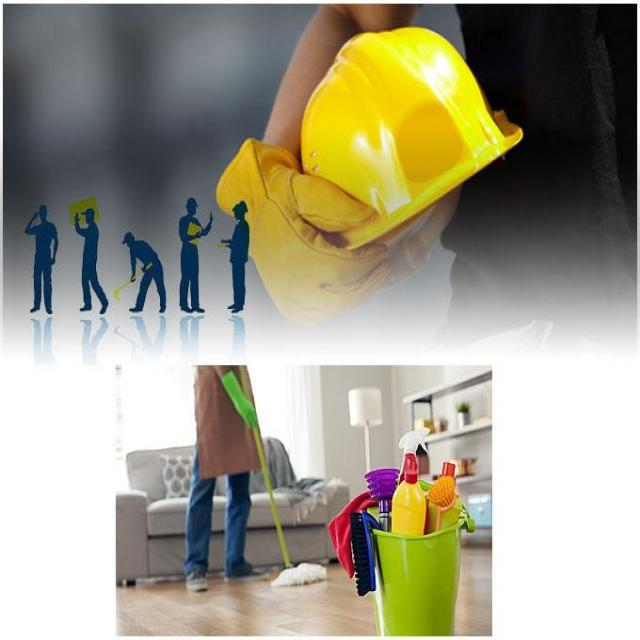Safety-Helmet: (296, 27, 524, 248)
